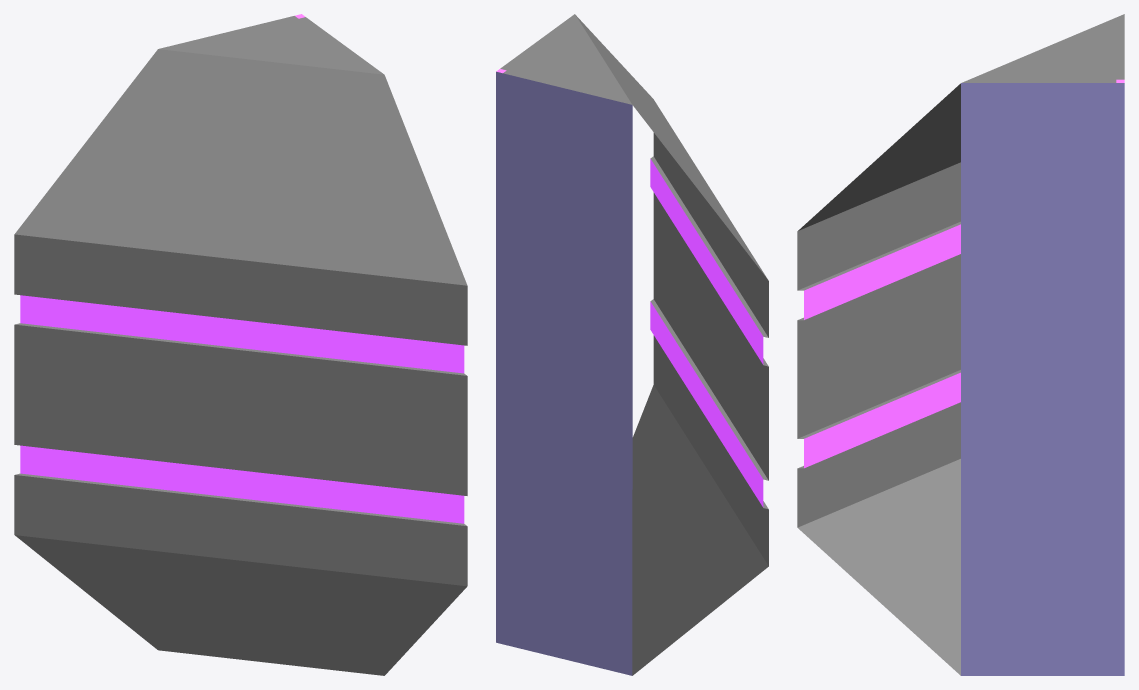
Rendered from PlatformCorner.FBX.
The picture shows the model from 3 angles, left to right: view 1: azimuth 30°, elevation 25°; view 2: azimuth 150°, elevation 25°; view 3: azimuth 270°, elevation 25°; orthographic projection. The views are drawn at different scales.
Parts seen in each view (by area): view 1: PlatformCorner; view 2: PlatformCorner; view 3: PlatformCorner.
Boxes of the visible parts, x1,y1,x2,y2 form: PlatformCorner: [14, 14, 467, 675]; PlatformCorner: [496, 14, 768, 675]; PlatformCorner: [797, 14, 1124, 675].
Size of the model in its own units: 50 by 50 by 100.
